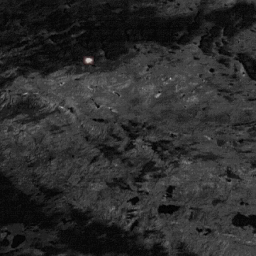Target: (84, 55, 93, 65)
